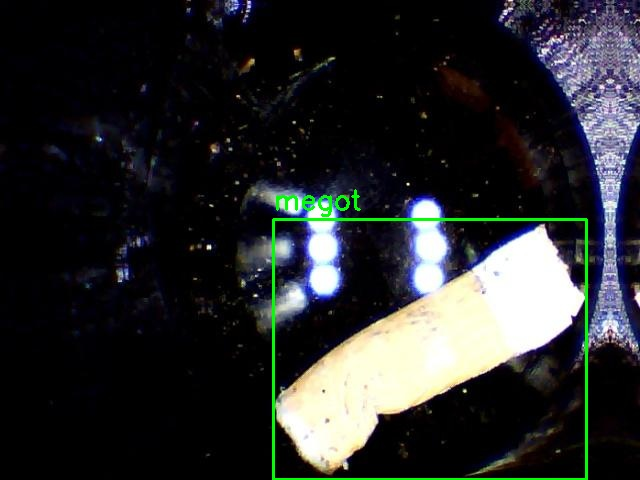megot: (273, 219, 586, 479)
